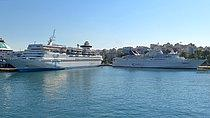Ship: (7, 34, 107, 74)
